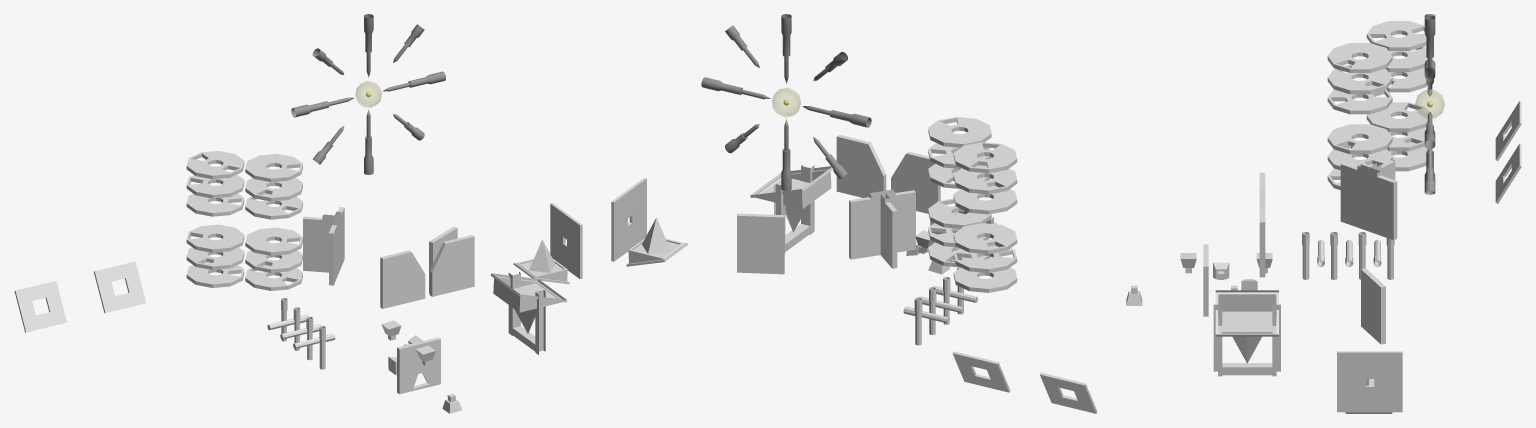
The model's file is Sketch6-Obstacles1.3.fbx.
3 renders of one model, left to right at view 1: azimuth 30°, elevation 25°; view 2: azimuth 150°, elevation 25°; view 3: azimuth 270°, elevation 25°, orthographic. The views are drawn at different scales.
Parts seen in each view (by area): view 1: 5-Breeder-Wall1, Cylinder, 5-Breeder-Wall3, 6-Relay-Wall1, 4-Injectors-Wall1, 3-Control-Wall2.001, 3-Control-Wall2, 6-Relay-PyramidBase.001, 6-Relay-Wall5, 2-Capacitor-Wall3.001, 2-Capacitor-Wall4.002, 2-Capacitor-Wall4.003 (+10 smaller); view 2: 5-Breeder-Wall3, 5-Breeder-Wall1, Cylinder, 5-Breeder-Wall2, 6-Relay-Wall1, 6-Relay-PyramidBase.001, 2-Capacitor-Wall3.001, 2-Capacitor-Wall1, 2-Capacitor-Wall4.003, 2-Capacitor-Wall3, 3-Control-Wall2.001, 3-Control-Wall2 (+11 smaller); view 3: 6-Relay-Wall1, 5-Breeder-Wall3, 6-Relay-PyramidBase.001, Cylinder, 6-Relay-Wall5, 2-Capacitor-Wall4.002, 2-Capacitor-Wall4.003, 5-Breeder-Wall2, 2-Capacitor-Wall1, 2-Capacitor-Wall3.001, 2-Capacitor-Wall2.003, 2-Capacitor-Wall1.003 (+10 smaller).
Part boxes in pixels (box(x1,y1,x2,y2)): 5-Breeder-Wall1: box(380, 235, 474, 308); Cylinder: box(291, 14, 445, 174); 5-Breeder-Wall3: box(303, 207, 344, 285); 6-Relay-Wall1: box(550, 203, 582, 279); 4-Injectors-Wall1: box(397, 337, 440, 394); 3-Control-Wall2.001: box(14, 281, 66, 332); 3-Control-Wall2: box(94, 261, 146, 313); 6-Relay-PyramidBase.001: box(490, 273, 566, 312); 6-Relay-Wall5: box(508, 272, 545, 354); 2-Capacitor-Wall3.001: box(186, 224, 244, 252); 2-Capacitor-Wall4.002: box(245, 227, 302, 255); 2-Capacitor-Wall4.003: box(245, 154, 302, 182); 5-Breeder-Wall3: box(849, 189, 915, 268); 5-Breeder-Wall1: box(836, 134, 940, 213); Cylinder: box(701, 14, 871, 190); 5-Breeder-Wall2: box(737, 213, 784, 274); 6-Relay-Wall1: box(611, 178, 646, 261); 6-Relay-PyramidBase.001: box(750, 166, 832, 208); 2-Capacitor-Wall3.001: box(953, 223, 1017, 254); 2-Capacitor-Wall1: box(953, 142, 1017, 173); 2-Capacitor-Wall4.003: box(928, 117, 991, 147); 2-Capacitor-Wall3: box(953, 165, 1017, 194); 3-Control-Wall2.001: box(1039, 372, 1097, 413); 3-Control-Wall2: box(952, 351, 1010, 392); 6-Relay-Wall1: box(1337, 351, 1402, 412); 5-Breeder-Wall3: box(1340, 160, 1397, 240); 6-Relay-PyramidBase.001: box(1215, 290, 1278, 336); Cylinder: box(1415, 14, 1444, 194); 6-Relay-Wall5: box(1213, 304, 1280, 376); 2-Capacitor-Wall4.002: box(1327, 124, 1392, 154); 2-Capacitor-Wall4.003: box(1327, 43, 1392, 72); 5-Breeder-Wall2: box(1361, 268, 1385, 344); 2-Capacitor-Wall1: box(1366, 21, 1426, 50); 2-Capacitor-Wall3.001: box(1366, 102, 1429, 132); 2-Capacitor-Wall2.003: box(1327, 64, 1392, 94); 2-Capacitor-Wall1.003: box(1327, 85, 1392, 114).
Bounding box in the file's own units: 2842 × 1605 × 1821.
